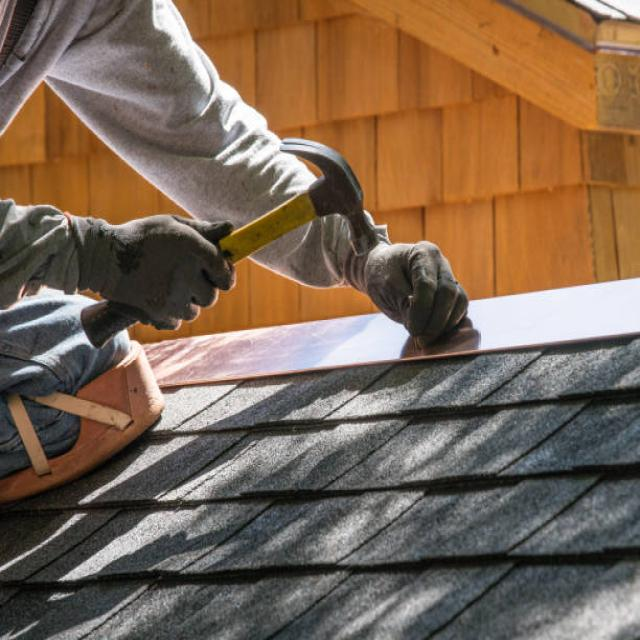gloves: (63, 208, 238, 328), (343, 232, 472, 348)
